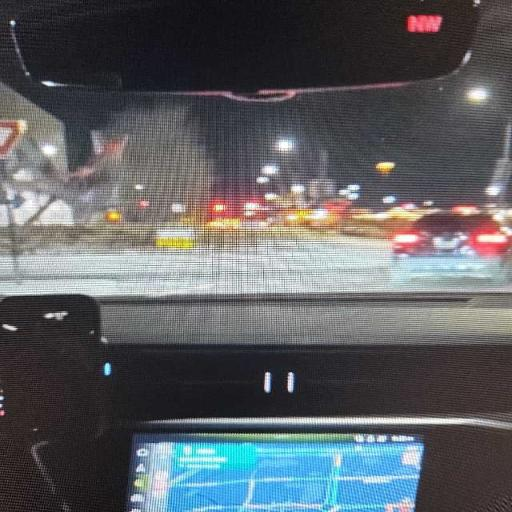car: (0, 0, 511, 511), (392, 213, 511, 280)
lane: (0, 236, 411, 296)
